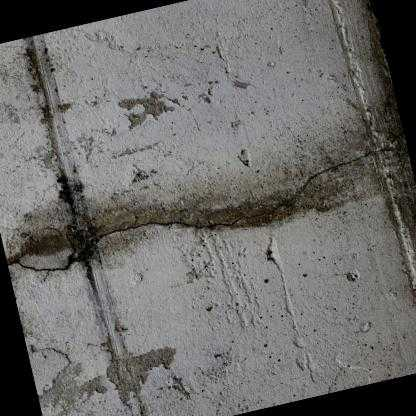crack: (10, 146, 395, 273)
